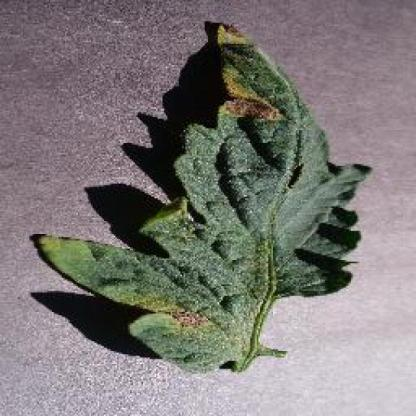Tomato_Blight: (38, 25, 371, 366)
